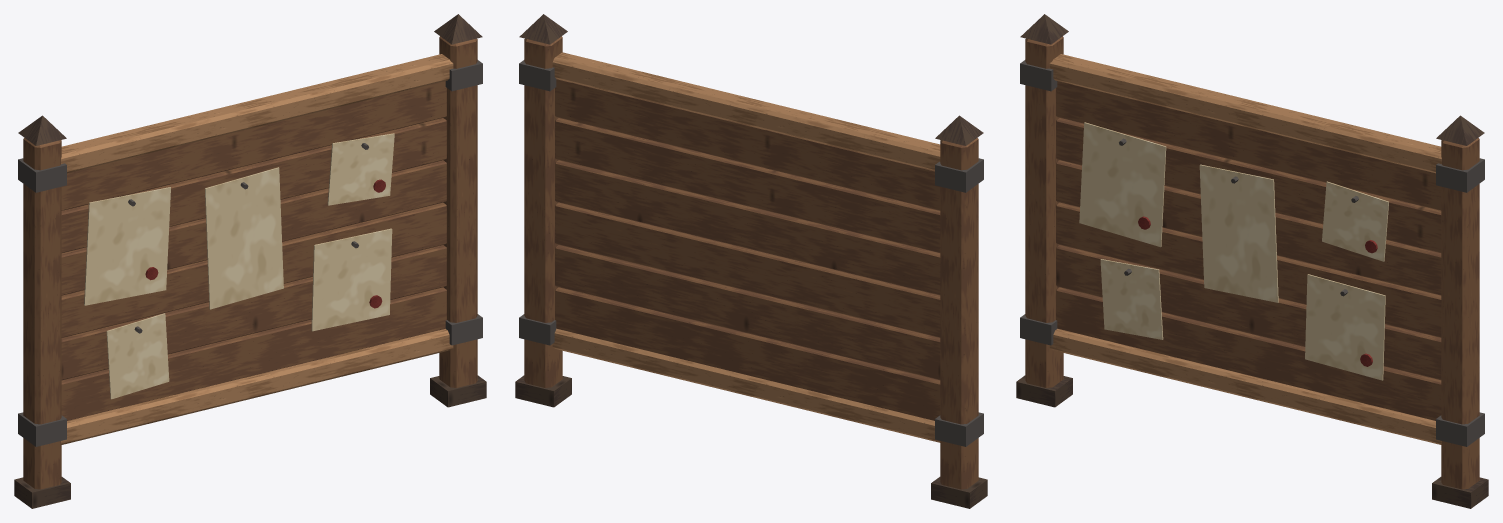
File: quest_noticeboard.glb
3 views of the same model, side by side, from view 1: azimuth 30°, elevation 25°; view 2: azimuth 150°, elevation 25°; view 3: azimuth 330°, elevation 25° (orthographic).
Parts seen in each view (by area): view 1: quest_noticeboard_wooden_backing, quest_noticeboard_frame, quest_noticeboard_loose_notices, quest_noticeboard_pins_seals; view 2: quest_noticeboard_wooden_backing, quest_noticeboard_frame; view 3: quest_noticeboard_wooden_backing, quest_noticeboard_frame, quest_noticeboard_loose_notices, quest_noticeboard_pins_seals.
Boxes of the visible parts, x1,y1,x2,y2 form: quest_noticeboard_wooden_backing: [61, 81, 446, 420]; quest_noticeboard_frame: [14, 14, 486, 508]; quest_noticeboard_loose_notices: [84, 133, 394, 399]; quest_noticeboard_pins_seals: [128, 143, 385, 333]; quest_noticeboard_wooden_backing: [555, 79, 940, 420]; quest_noticeboard_frame: [515, 14, 987, 508]; quest_noticeboard_wooden_backing: [1056, 81, 1441, 420]; quest_noticeboard_frame: [1016, 14, 1488, 508]; quest_noticeboard_loose_notices: [1079, 122, 1388, 380]; quest_noticeboard_pins_seals: [1119, 138, 1377, 366].
Size of what is drawn, in the model's own units: 2.34 by 1.88 by 0.16.
6 materials, 6 textured.
